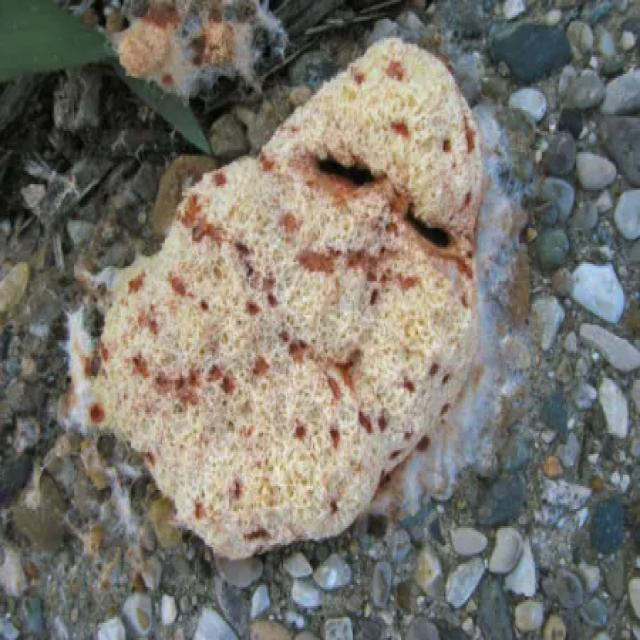Dog_vomit_slime_mold: (31, 27, 522, 549)
